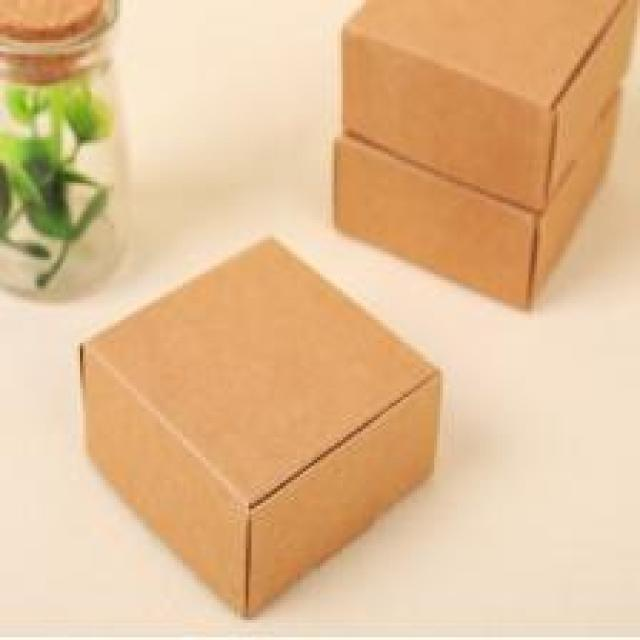box: (77, 236, 443, 618), (332, 80, 629, 320), (339, 1, 638, 211)
